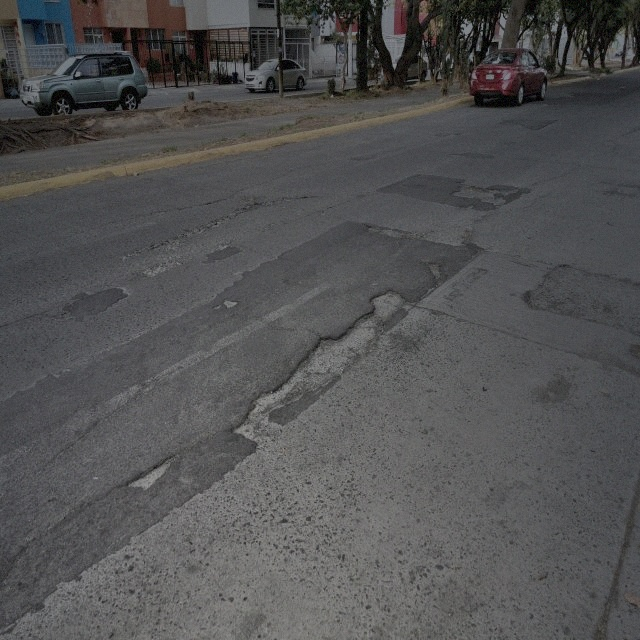pothole: (238, 282, 408, 445), (127, 449, 173, 502), (452, 180, 509, 208), (368, 220, 411, 242), (422, 257, 442, 285), (222, 298, 237, 309)
